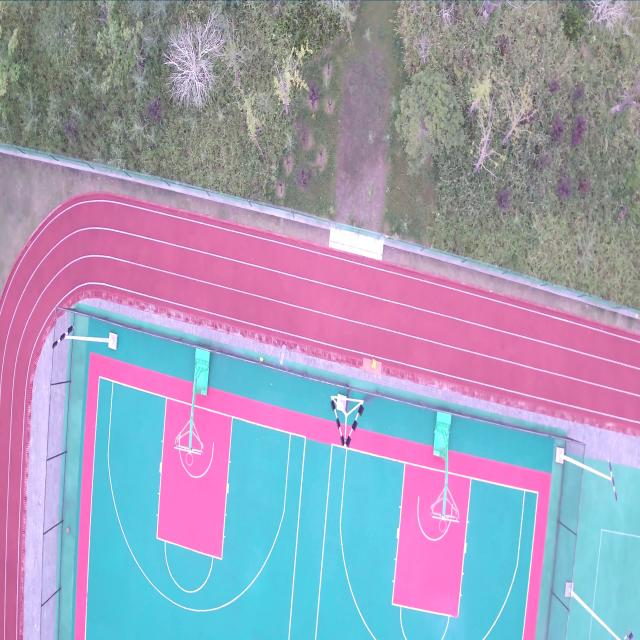UAV: (272, 340, 294, 372)
